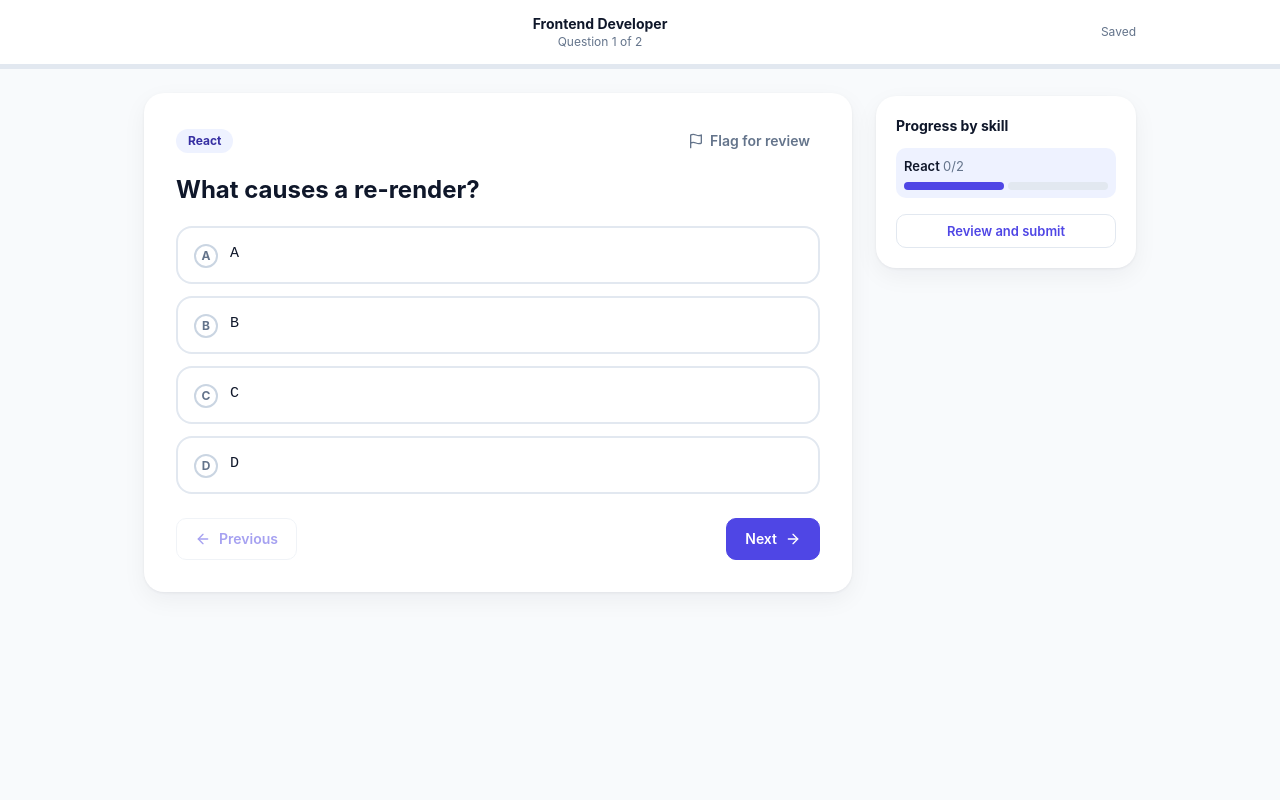
TestRunner › saves flags and navigates between questions
The image size is (1280, 800).
What coordinates should you click on to do the following:
click the button "Flag for review"
I would click on:
 (749, 141)
Its box is [678, 125, 820, 157].
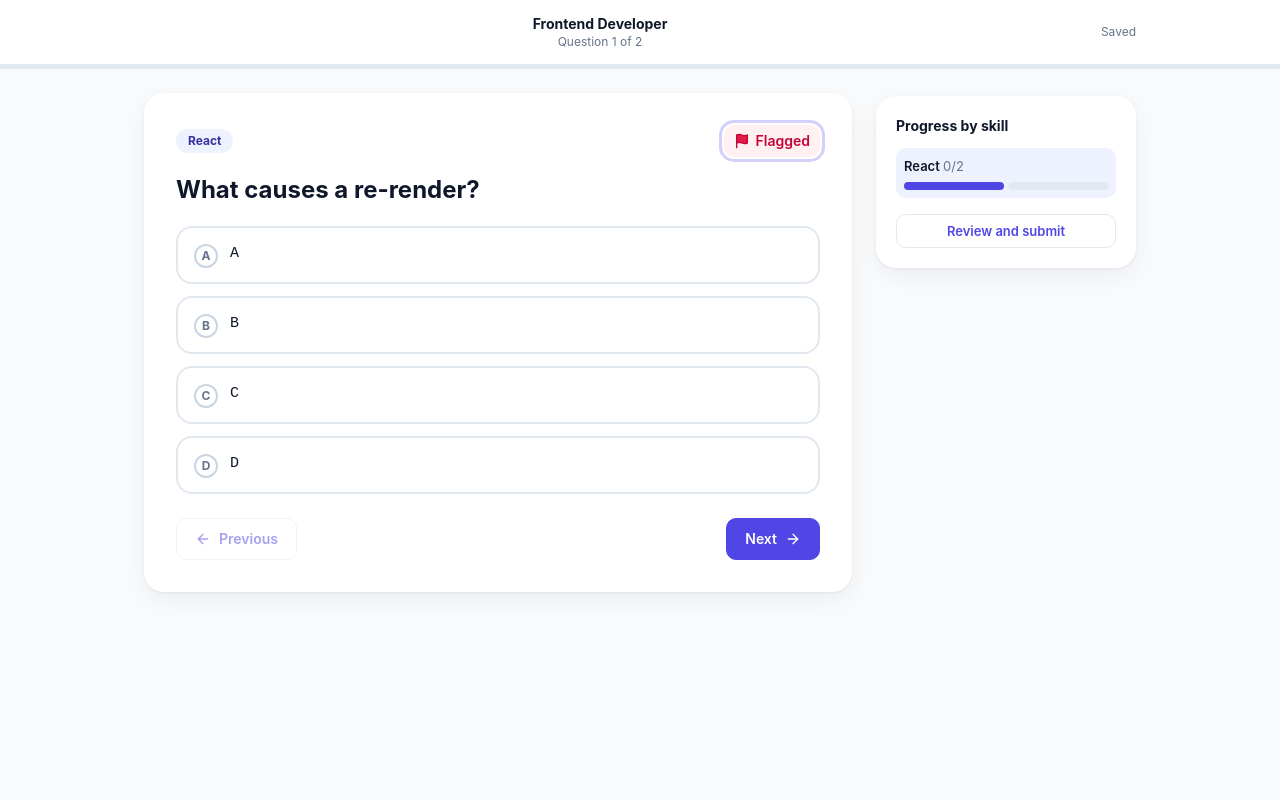
What coordinates should you click on to do the following:
click the button "Next"
I would click on:
 (773, 539)
Its box is [726, 518, 820, 560].
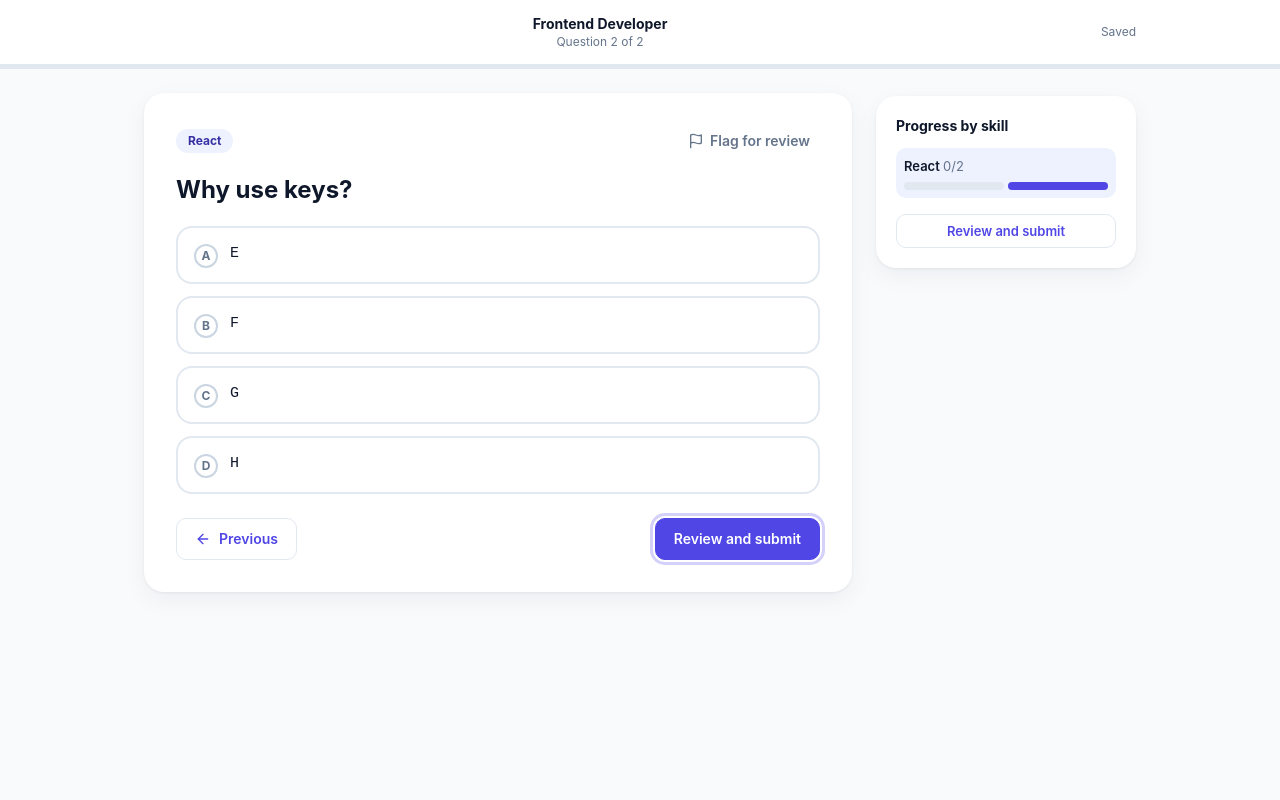
Result: the heading "Why use keys?" is shown at [176, 175, 352, 204]
